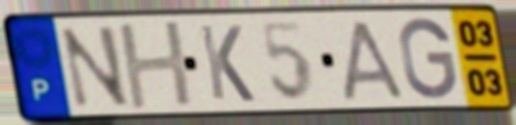5: (257, 20, 318, 105)
A: (340, 18, 408, 103)
G: (396, 15, 460, 102)
H: (115, 18, 199, 113)
K: (195, 22, 258, 105)
N: (57, 22, 133, 111)
